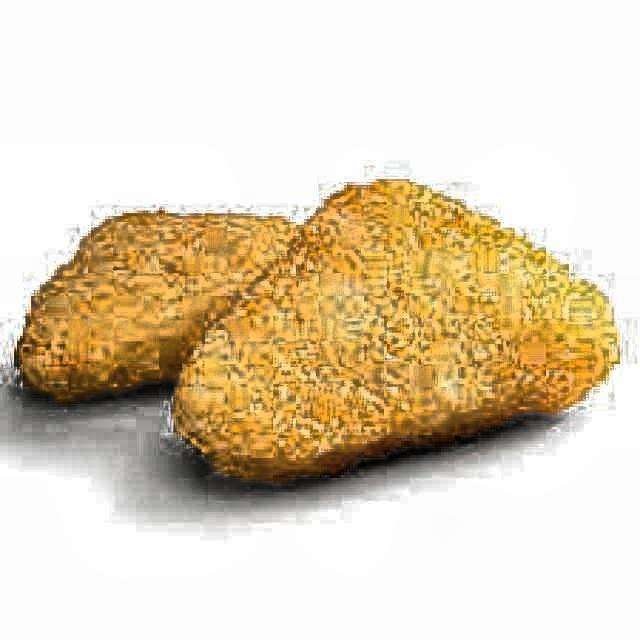Food: (12, 177, 614, 472)
